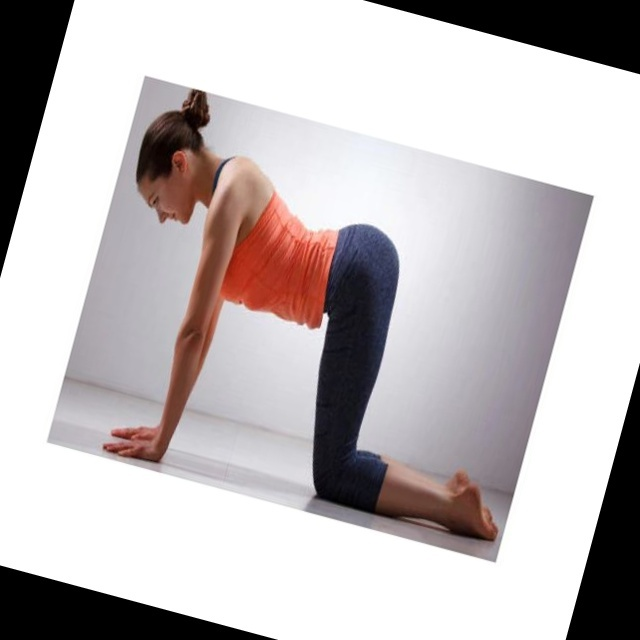Cow_Pose: (103, 112, 500, 544)
